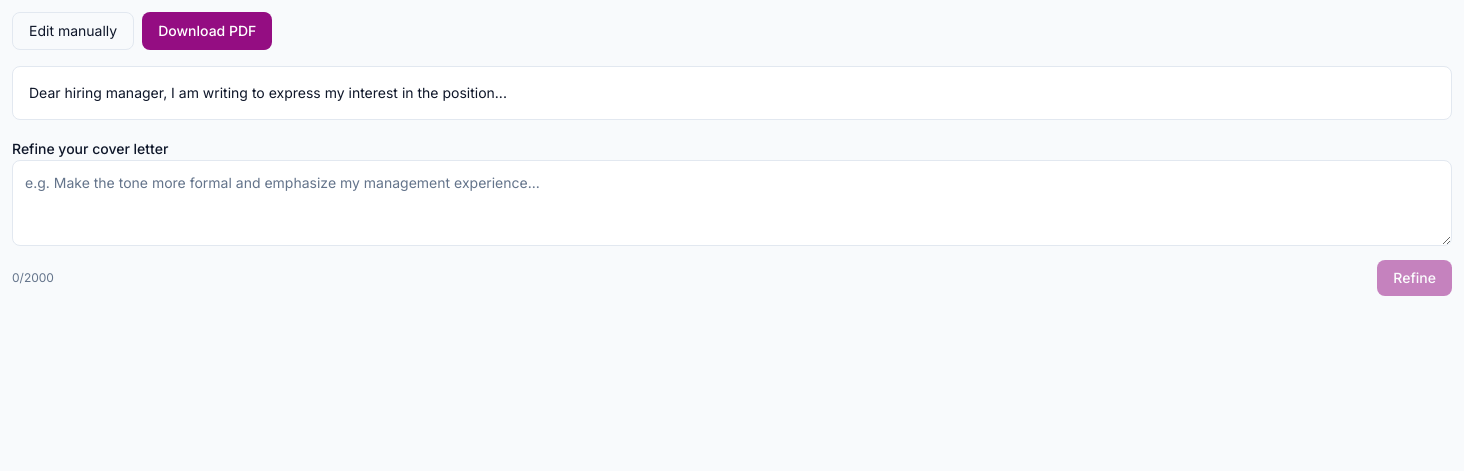
Test: CoverLetterTab › shows edit mode when Edit button is clicked
Click the button with test id "cl-edit-btn". click: (73, 31)
box: [12,12,134,50]
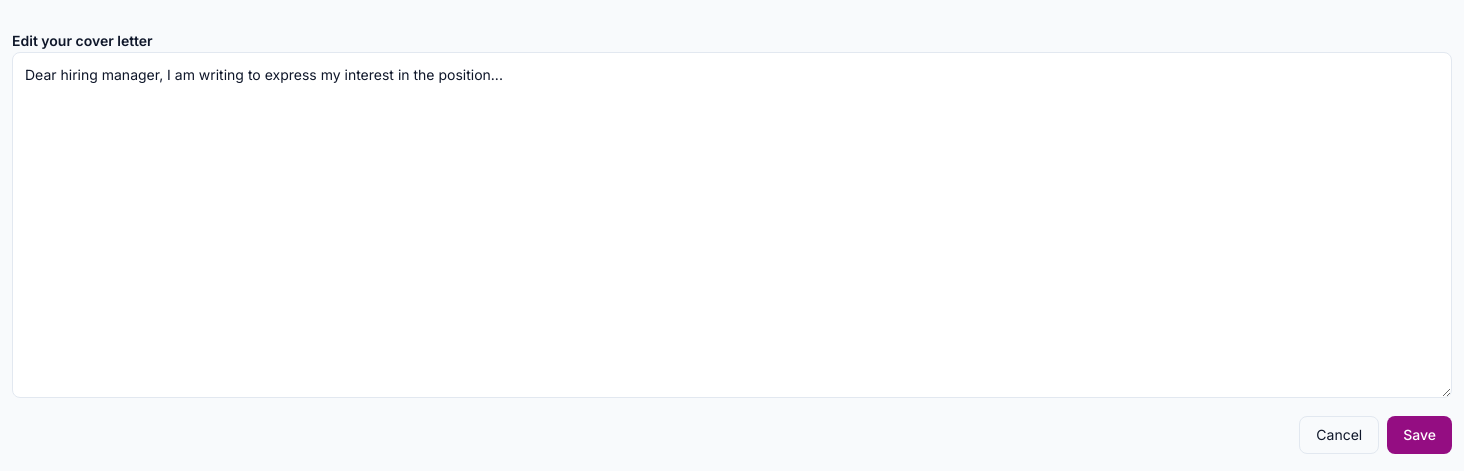
Now the element with test id "cl-edit-mode" is shown
Now the text box with test id "cl-edit-textarea" holds "Dear hiring manager, I am writing to express my interest in the position..."
